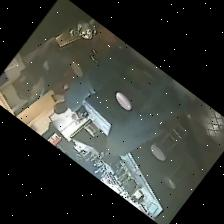person: (103, 74, 189, 163), (54, 45, 129, 113)
